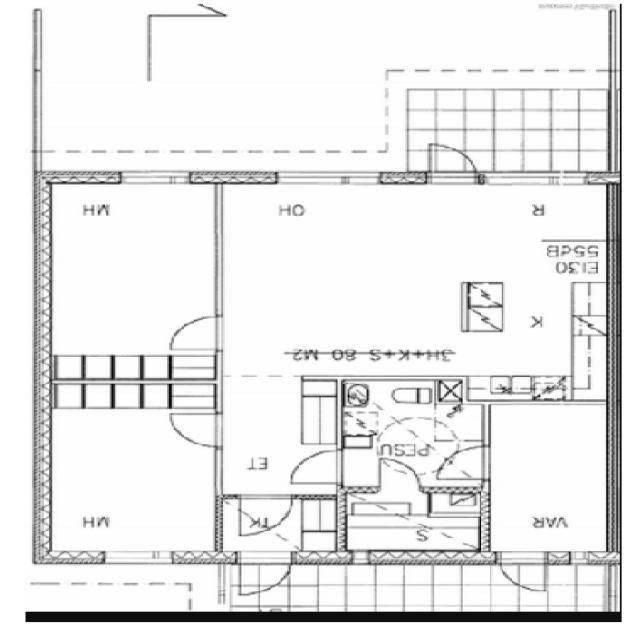door: (414, 136, 488, 189), (157, 307, 230, 358), (228, 492, 294, 539), (160, 407, 228, 450), (231, 551, 292, 598), (285, 446, 348, 488), (434, 439, 494, 481), (494, 552, 548, 596), (374, 457, 427, 500)
window: (475, 168, 599, 193), (271, 169, 388, 190), (113, 169, 199, 189), (96, 549, 176, 567)
zone: (210, 182, 617, 373), (42, 178, 222, 380), (42, 387, 223, 564), (482, 400, 614, 563), (339, 378, 450, 469), (340, 496, 487, 564)
